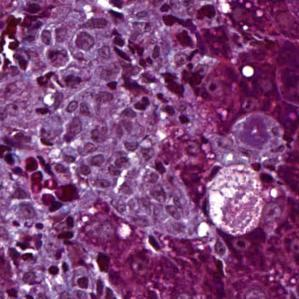ballooning: (203, 162, 266, 238)
